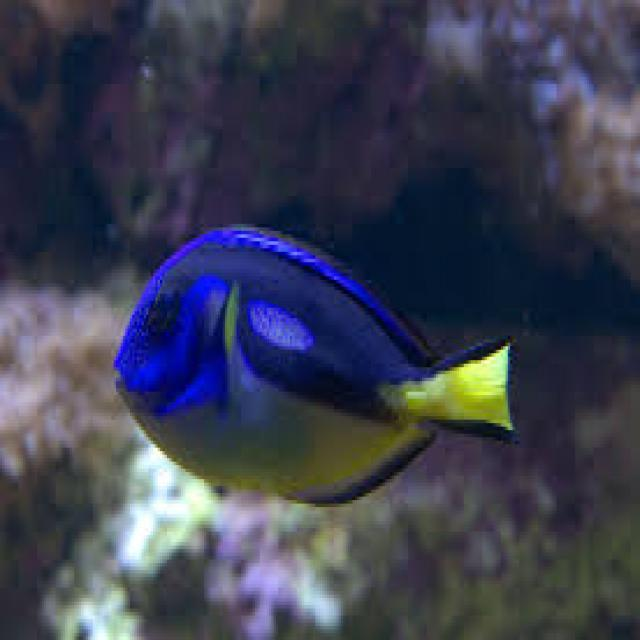TangFish: (112, 223, 513, 508)
